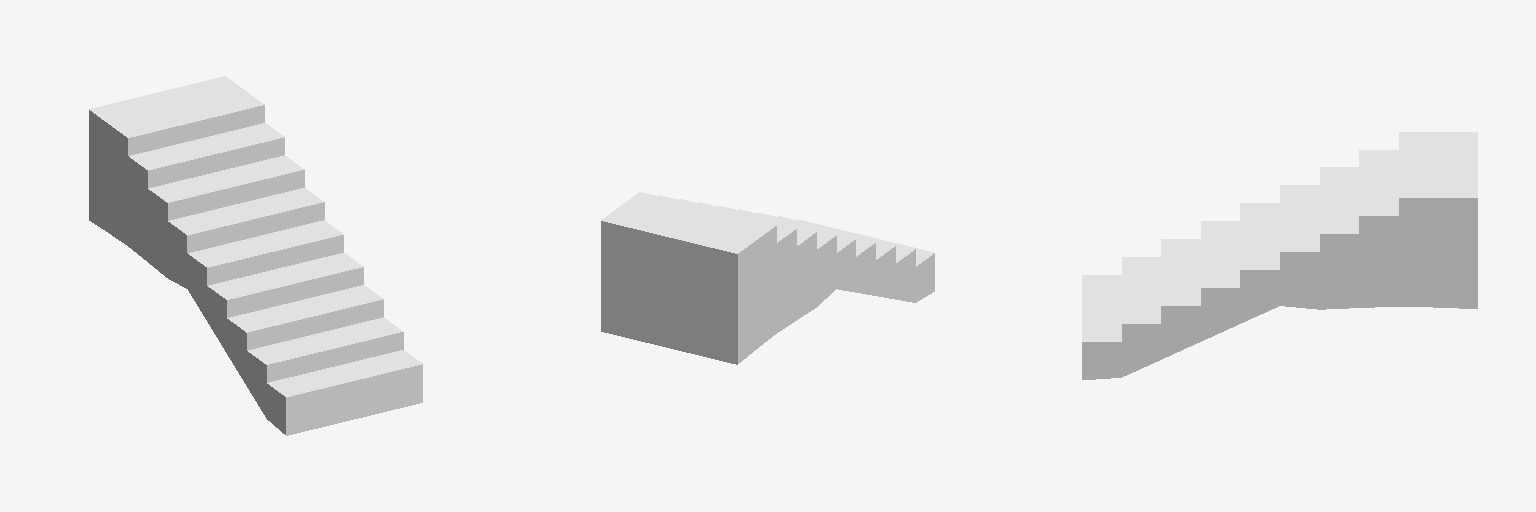
The model's file is Stairs (98).obj.
3 renders of one model, left to right at view 1: azimuth 30°, elevation 25°; view 2: azimuth 150°, elevation 25°; view 3: azimuth 270°, elevation 25°, orthographic.
Parts seen in each view (by area): view 1: Stairs (98); view 2: Stairs (98); view 3: Stairs (98).
Part boxes in pixels (x1,y1,x2,y2): Stairs (98): (89,76,422,435); Stairs (98): (601,192,934,364); Stairs (98): (1082,132,1477,379).
Bounding box in the file's own units: 2 × 2.54 × 5.